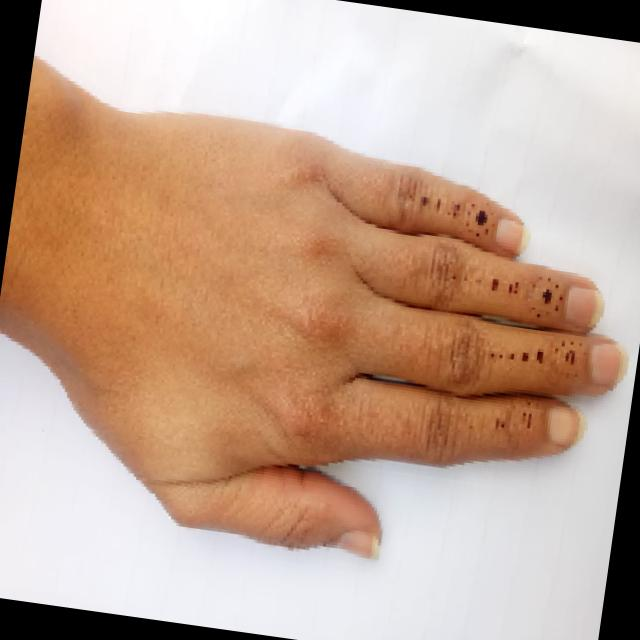Nail: (588, 340, 626, 385), (565, 285, 603, 328), (547, 403, 582, 447), (495, 216, 528, 255), (336, 530, 379, 557)
